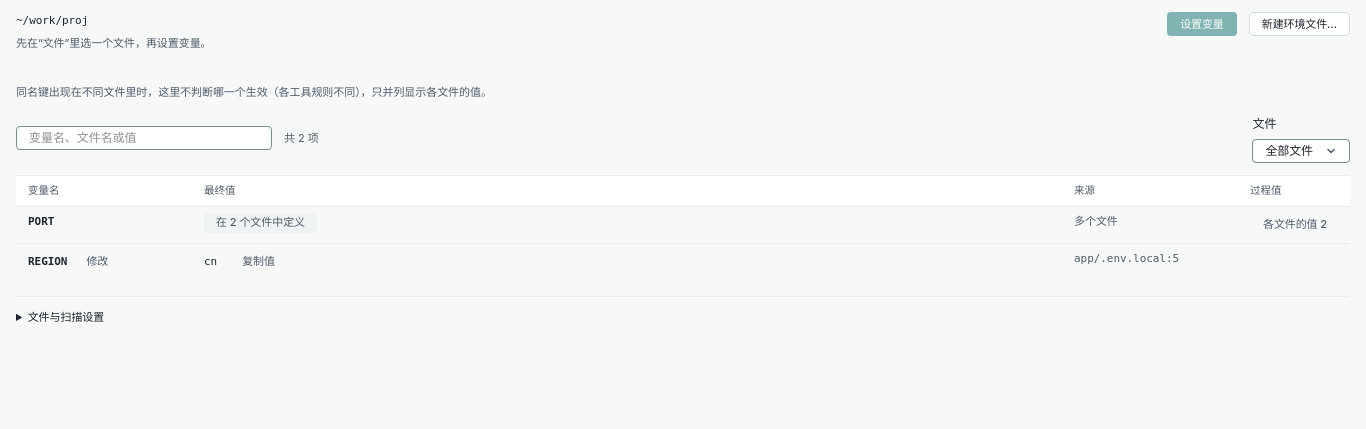
Test: dotenv table: a name defined in several files › lists each file's value side by side in the expansion, without a final badge
Click the button "各文件的值 2" at (1295, 225), box [1250,213,1340,237]
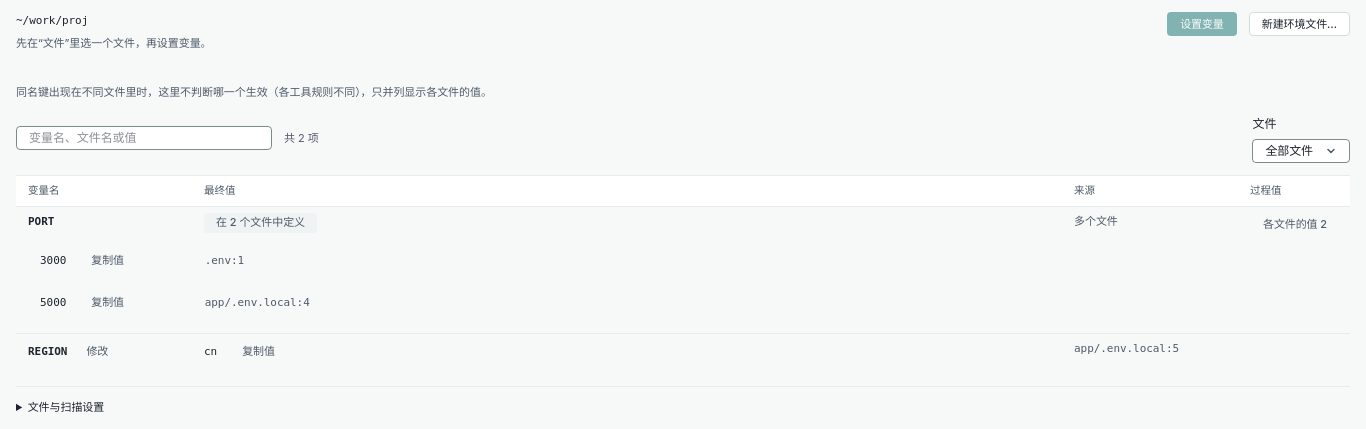
Expected: the text "3000" is shown, [40,252,66,269]
Expected: the text "5000" is shown, [40,294,66,311]
Expected: the text ".env:1" is shown, [205,252,244,269]
